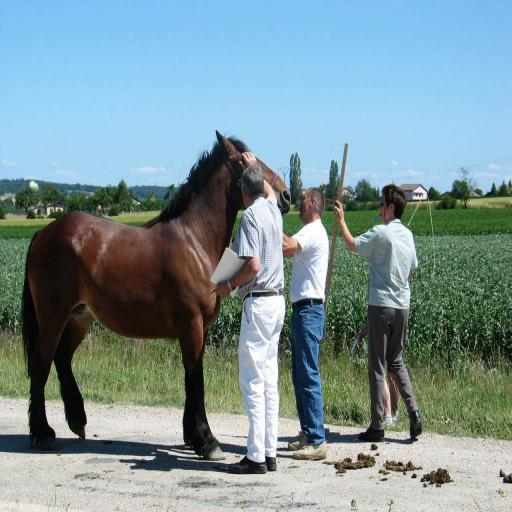horse: (23, 128, 292, 462)
